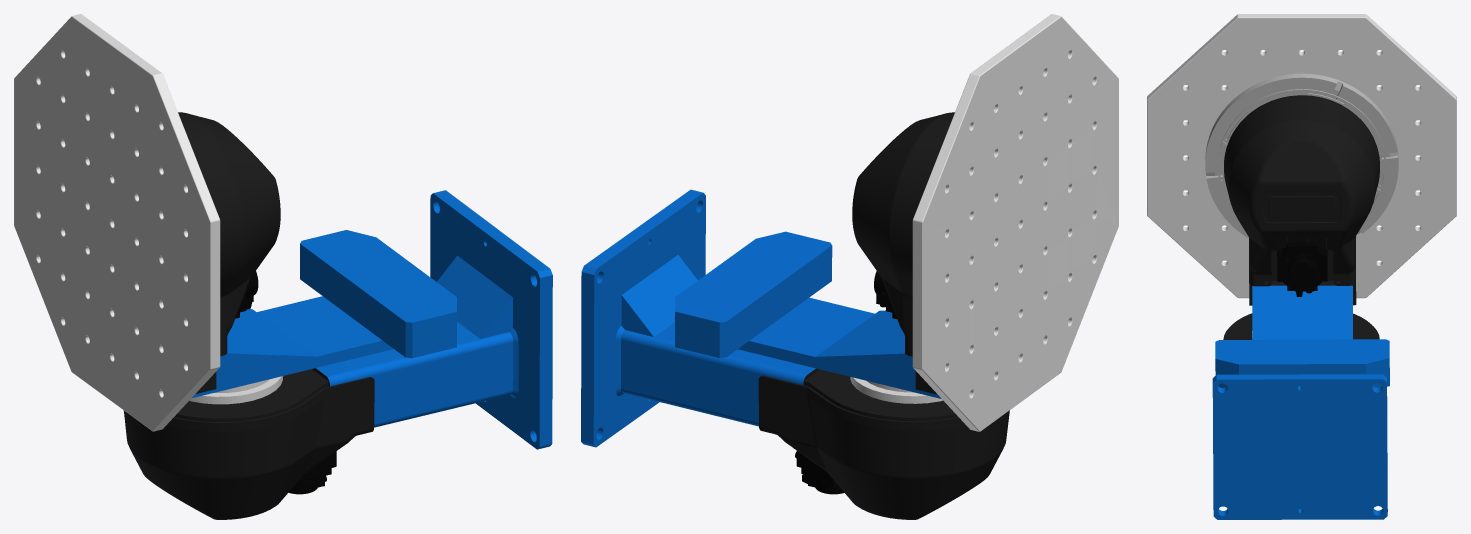
File: Yaskawa_TURN2.glb
3 renders of one model, left to right at view 1: azimuth 30°, elevation 25°; view 2: azimuth 150°, elevation 25°; view 3: azimuth 270°, elevation 25°, orthographic. The views are drawn at different scales.
Parts seen in each view (by area): view 1: DK-250_L02, DK-250_L00, DK-250_L01; view 2: DK-250_L02, DK-250_L00, DK-250_L01; view 3: DK-250_L02, DK-250_L01, DK-250_L00.
Part boxes in pixels (x1=…): DK-250_L02: x1=14, y1=14, x2=220, y2=431; DK-250_L00: x1=123, y1=190, x2=552, y2=519; DK-250_L01: x1=178, y1=112, x2=456, y2=397; DK-250_L02: x1=912, y1=14, x2=1118, y2=431; DK-250_L00: x1=581, y1=189, x2=1009, y2=519; DK-250_L01: x1=675, y1=112, x2=954, y2=398; DK-250_L02: x1=1147, y1=14, x2=1456, y2=298; DK-250_L01: x1=1215, y1=95, x2=1389, y2=388; DK-250_L00: x1=1212, y1=313, x2=1387, y2=519.
Bounding box in the file's own units: 0.905 × 1.09 × 0.8.
